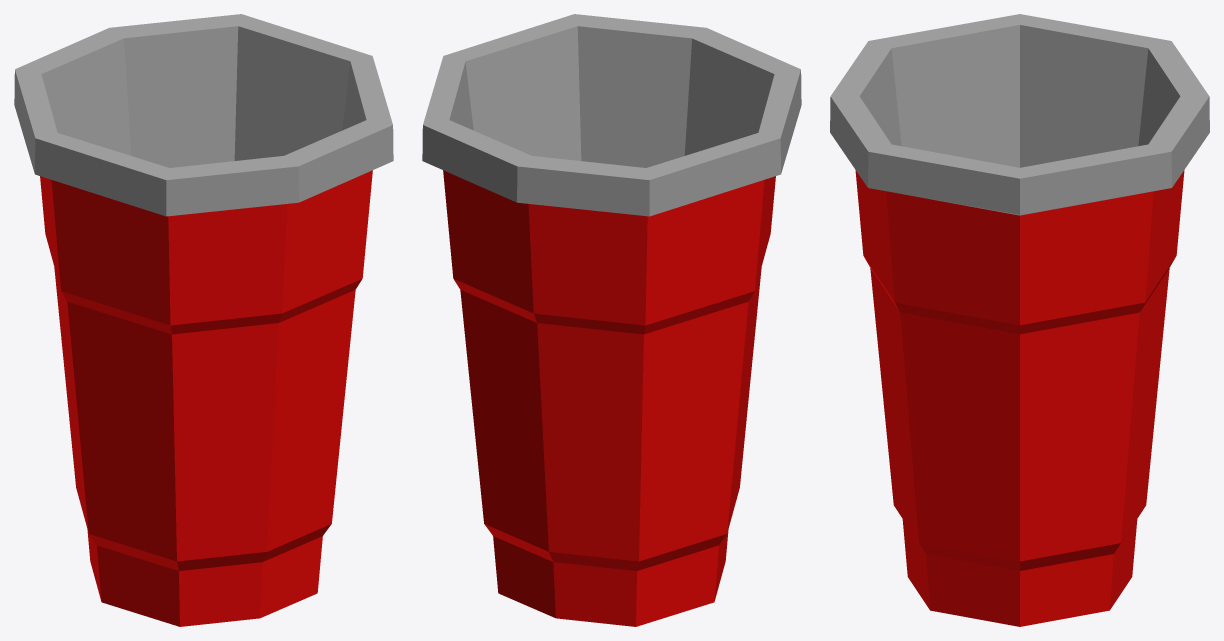
File: SM_Item_BeerCup_02.fbx
3 renders of one model, left to right at view 1: azimuth 30°, elevation 25°; view 2: azimuth 150°, elevation 25°; view 3: azimuth 270°, elevation 25°, orthographic.
Parts seen in each view (by area): view 1: SM_Item_BeerCup_01; view 2: SM_Item_BeerCup_01; view 3: SM_Item_BeerCup_01.
Part boxes in pixels (x1=…): SM_Item_BeerCup_01: x1=14, y1=14, x2=393, y2=626; SM_Item_BeerCup_01: x1=422, y1=14, x2=801, y2=626; SM_Item_BeerCup_01: x1=830, y1=14, x2=1209, y2=626.
Size of the model in its own units: 15.06 by 20.44 by 14.65.
